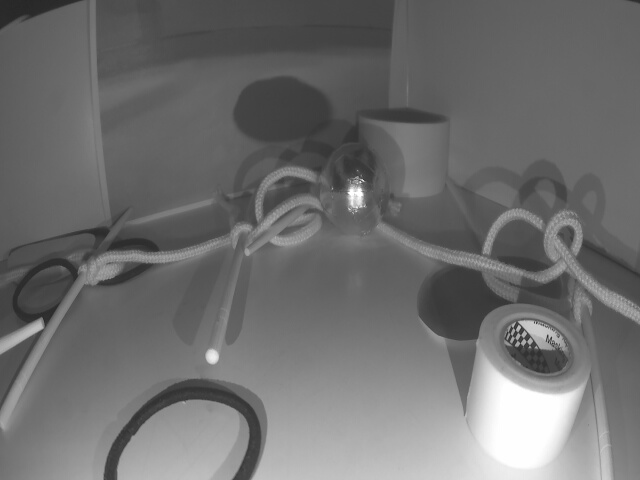Live: (317, 142, 390, 235)
